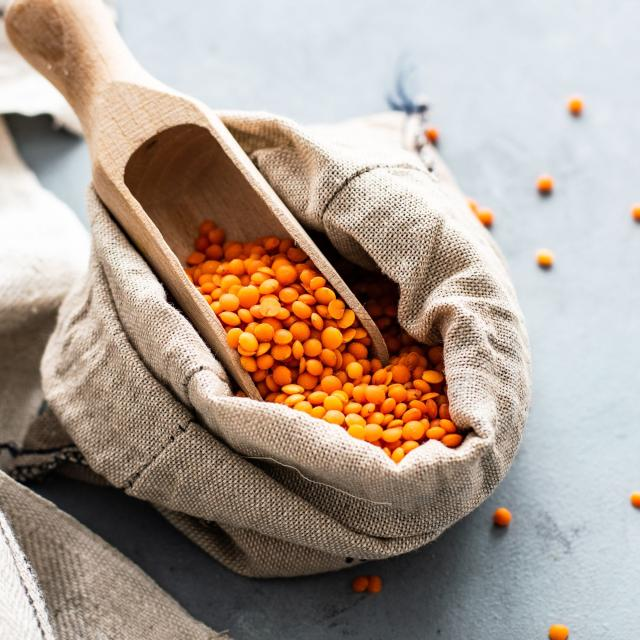lentejas: (155, 205, 513, 504)
